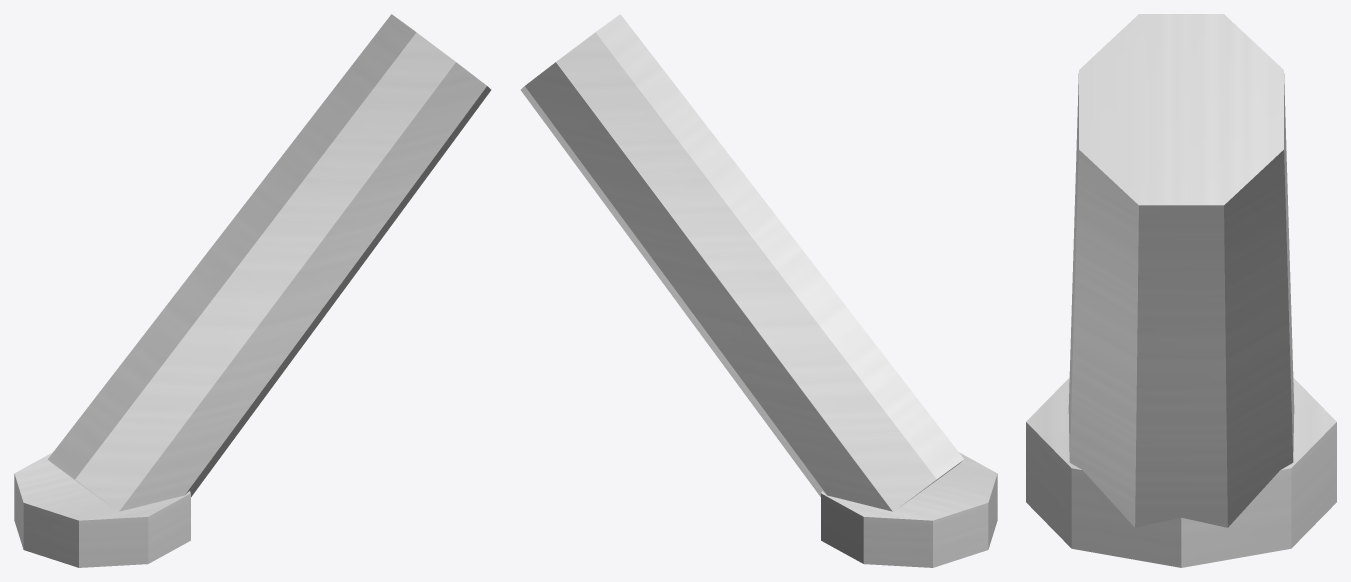
File: turret_gun_mortar.obj
3 renders of one model, left to right at view 1: azimuth 30°, elevation 25°; view 2: azimuth 150°, elevation 25°; view 3: azimuth 270°, elevation 25°, orthographic. The views are drawn at different scales.
Parts seen in each view (by area): view 1: turret_gun_mortar; view 2: turret_gun_mortar; view 3: turret_gun_mortar.
Boxes of the visible parts, x1,y1,x2,y2 form: turret_gun_mortar: (14, 14, 491, 567); turret_gun_mortar: (520, 14, 997, 567); turret_gun_mortar: (1026, 14, 1336, 567).
Bounding box in the file's own units: 0.8064 × 0.7549 × 0.28.
